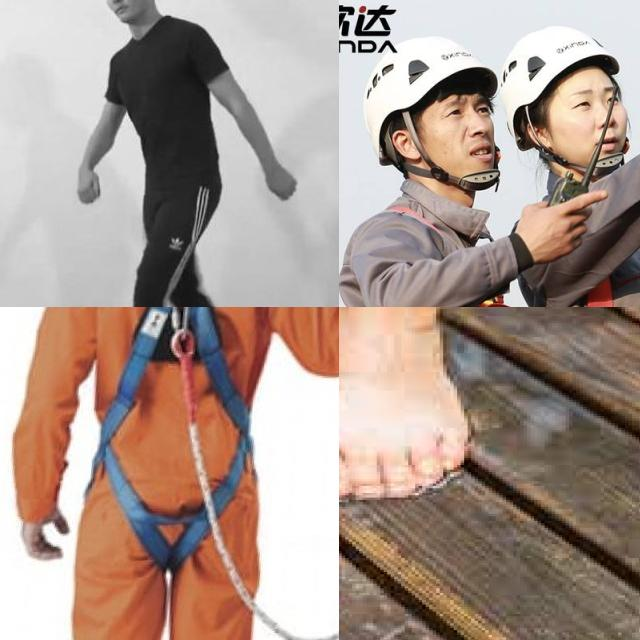Harness: (87, 307, 252, 572)
No_Ear-Protection: (392, 129, 423, 161)
No_Glasses: (441, 94, 495, 123), (566, 85, 598, 119)
face_nomask: (94, 0, 144, 22)
hand_noglove: (246, 155, 308, 212), (70, 146, 115, 215)
person: (69, 0, 298, 307)
